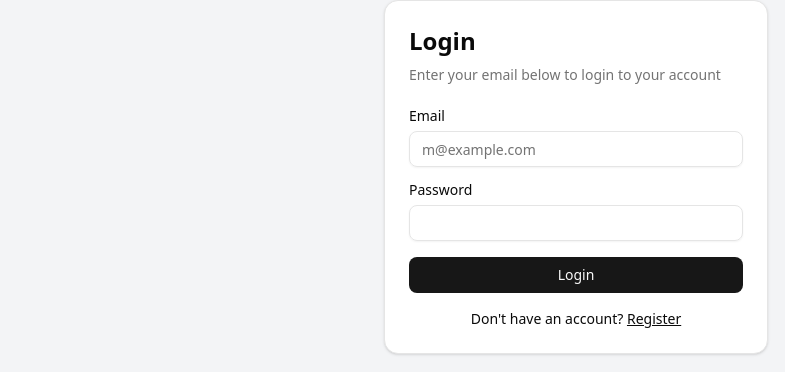
The Login Page Use Cases › 1. should let a user log in, save token/username, and navigate to the home page
# The robot user types in the CORRECT credentials. (MSW uses default success handler)
Type "test@example.com" into the field labelled "Email" at (576, 149), box [409,131,743,167]
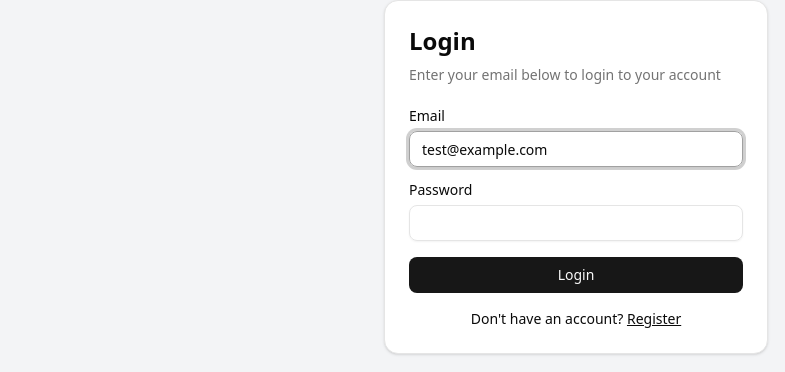
Type "password123" into the password field labelled "Password" at (576, 223), box [409,205,743,241]
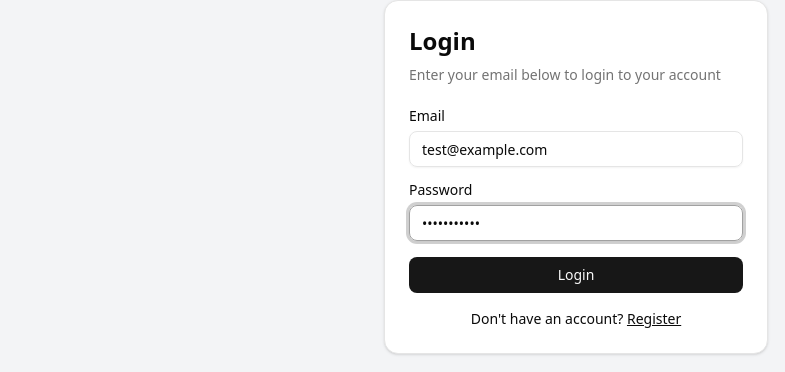
# The robot clicks the "Login" button.
Click the button "Login" at (576, 275), box [409,257,743,293]
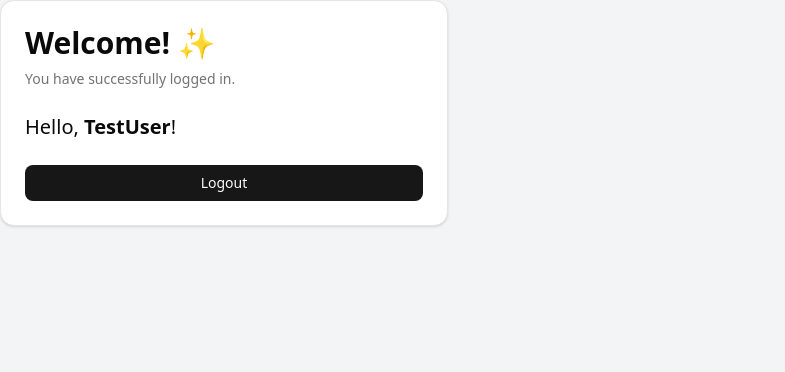
Expected: the text "Welcome! ✨" is shown, [25,22,215,63]
Expected: the element with test id "welcome-message" reads "Hello, TestUser!", [25,113,176,140]
Expected: the text "TestUser" is shown, [84,113,171,140]
